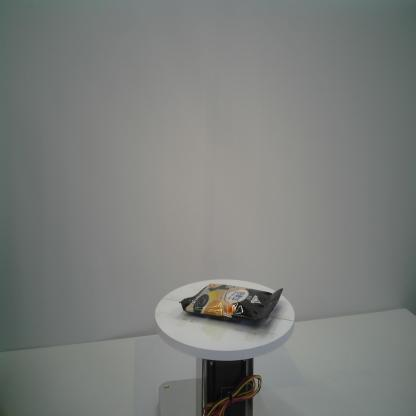Instant Drink: (179, 284, 284, 326)
